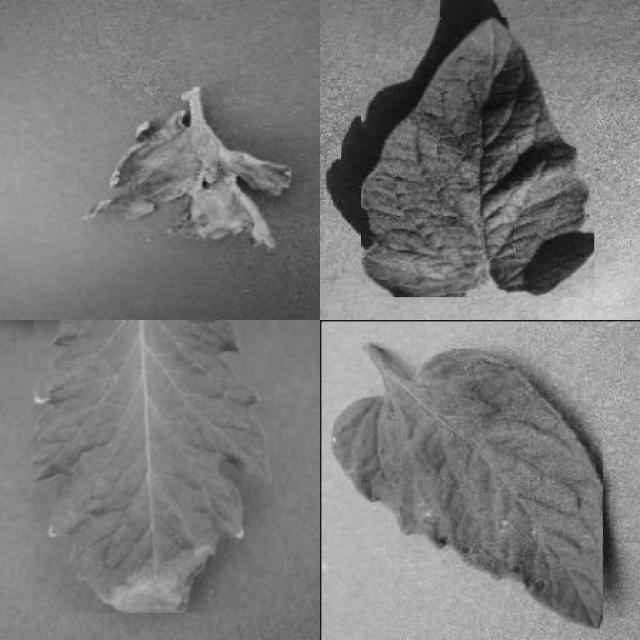Late Blight: (33, 320, 273, 613), (78, 105, 292, 248)
Septoria: (328, 348, 603, 628)
Spider Mites: (360, 17, 594, 297)
